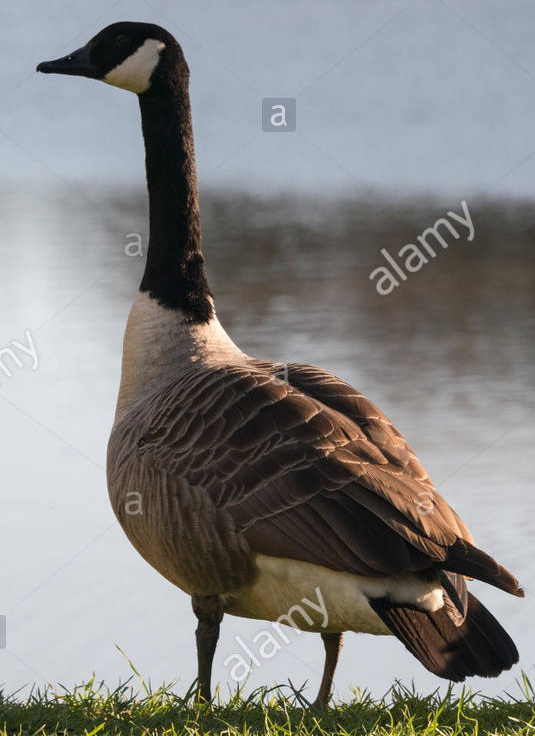goose: (22, 16, 535, 688)
